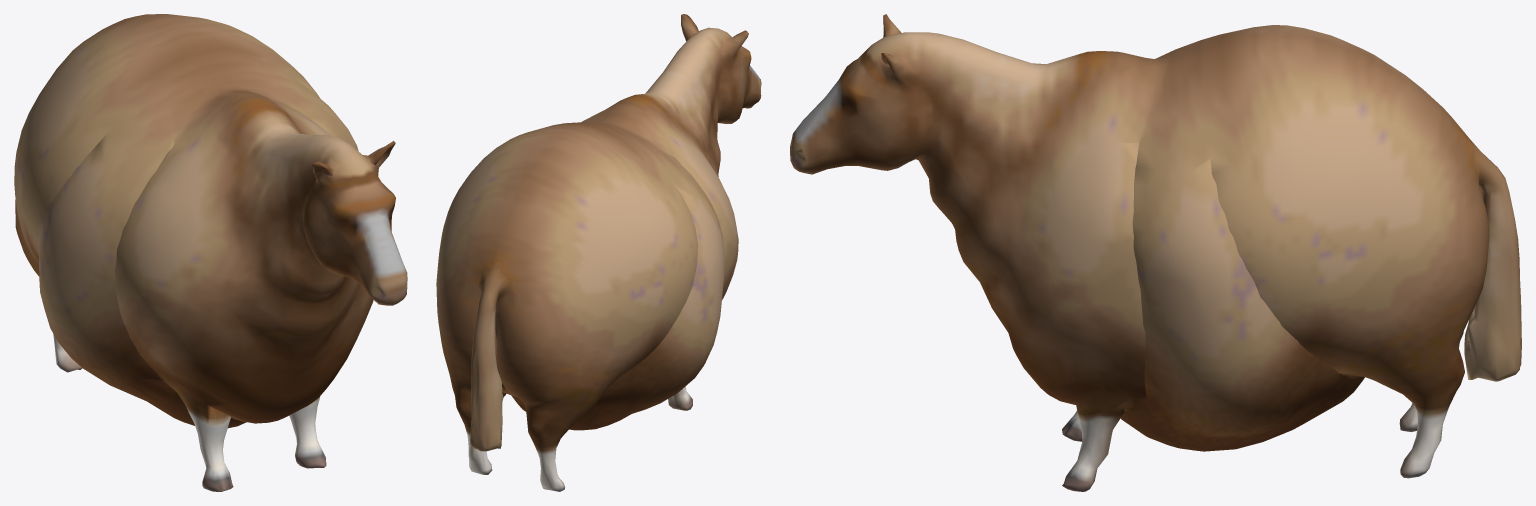
Rendered from fathorse.fbx.
3 renders of one model, left to right at view 1: azimuth 30°, elevation 25°; view 2: azimuth 150°, elevation 25°; view 3: azimuth 270°, elevation 25°, orthographic. The views are drawn at different scales.
Visible parts, largest first — view 1: Horse; view 2: Horse; view 3: Horse.
Part boxes in pixels (x1,y1,x2,y2): Horse: (14, 14, 407, 491); Horse: (436, 14, 761, 491); Horse: (790, 14, 1521, 491).
Size of the model in its own units: 257 by 320 by 494.
Materials: 1 (1 with a texture image).
